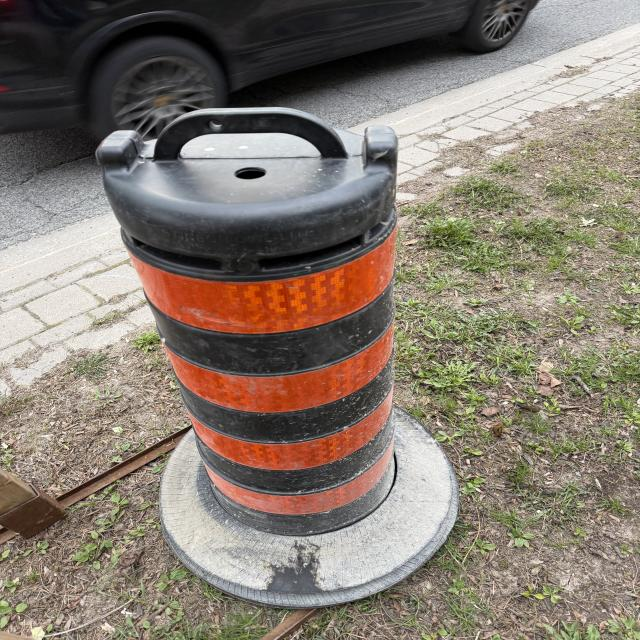Teraffic Barrel: (98, 109, 457, 606)
